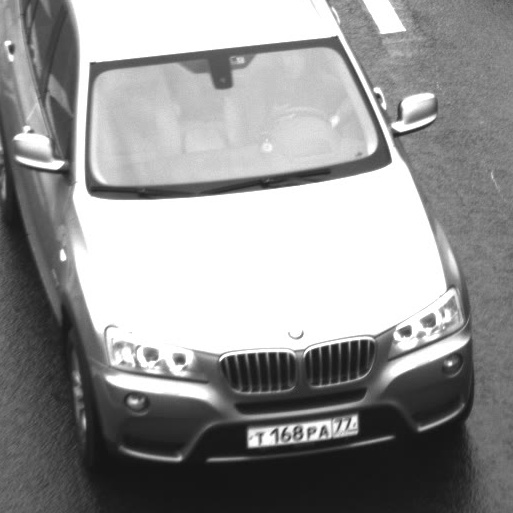plate: (236, 403, 370, 457)
